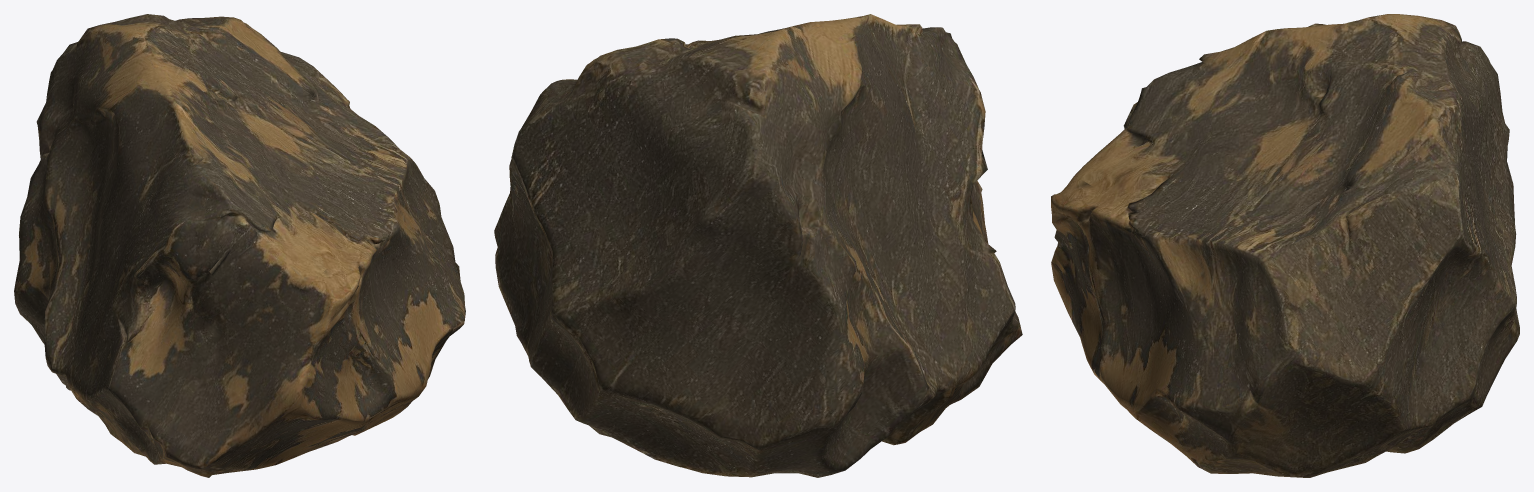
The model's file is sc_cliffchunk.glb.
3 views of the same model, side by side, from view 1: azimuth 30°, elevation 25°; view 2: azimuth 150°, elevation 25°; view 3: azimuth 270°, elevation 25° (orthographic). The views are drawn at different scales.
Parts seen in each view (by area): view 1: sc_cliffchunk; view 2: sc_cliffchunk; view 3: sc_cliffchunk.
Boxes of the visible parts, x1,y1,x2,y2 form: sc_cliffchunk: (14, 14, 465, 477); sc_cliffchunk: (494, 14, 1022, 477); sc_cliffchunk: (1051, 14, 1519, 477).
Bounding box in the file's own units: 1.69 × 1.57 × 1.8.
1 material, 1 textured.
